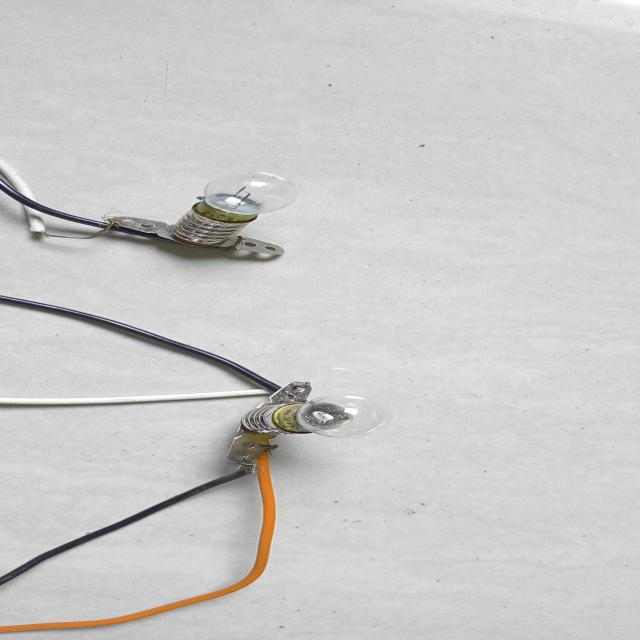Electric Bulbs: (123, 159, 394, 457)
